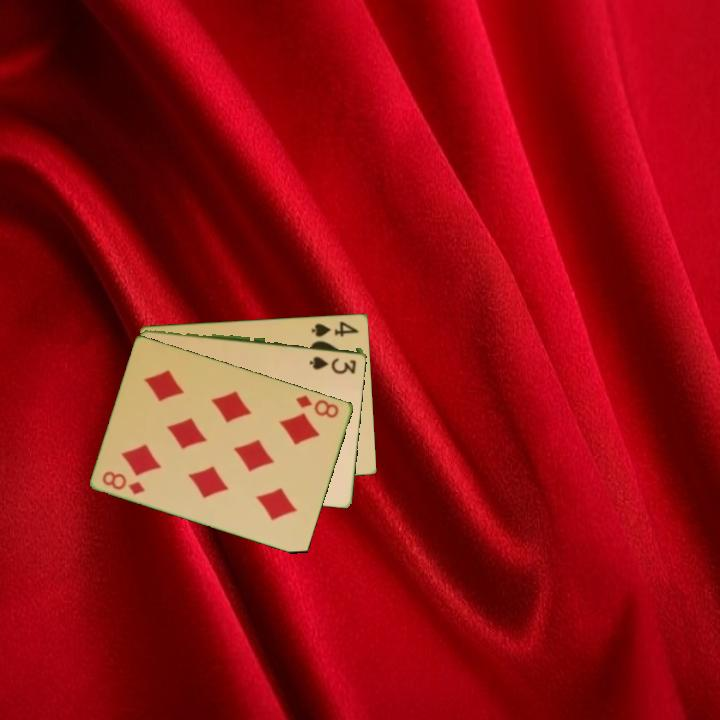3s: (306, 352, 359, 373)
4s: (308, 318, 362, 339)
8d: (99, 467, 148, 498), (292, 391, 342, 421)
